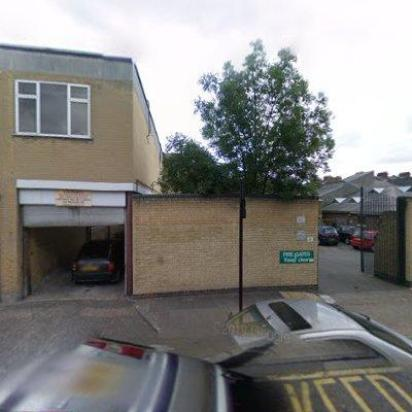moving-car: (1, 330, 253, 412)
stationary-car-offstreet: (69, 235, 121, 287), (350, 226, 382, 250), (318, 224, 342, 248), (332, 223, 358, 244)
stationary-car-onstreet: (186, 294, 412, 386)
